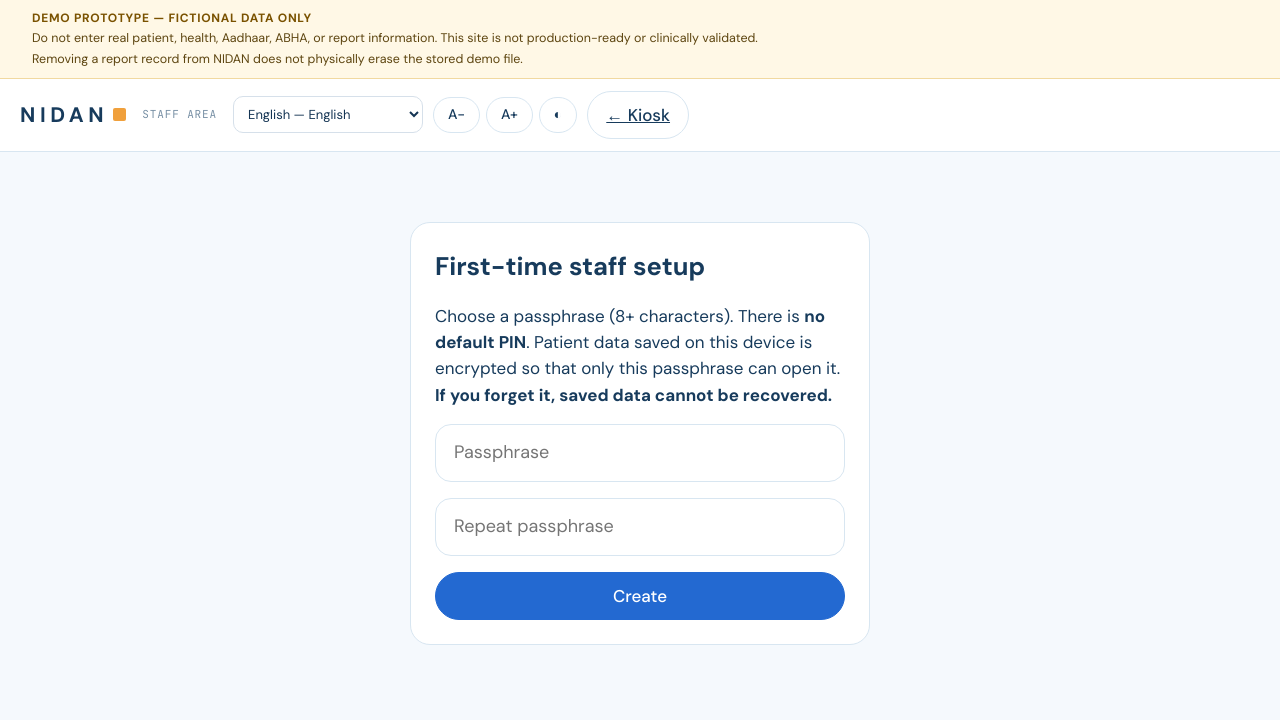
it: staff area: no default PIN, encrypted hand-over, audit › forces setup, then shows alerts after sign-in; kiosk data is saved sealed
Expected: the text "no default PIN" is shown, [435,304,825,353]
Type "correct horse battery" into the password field with placeholder "Passphrase" at (640, 453), box [435,424,845,482]
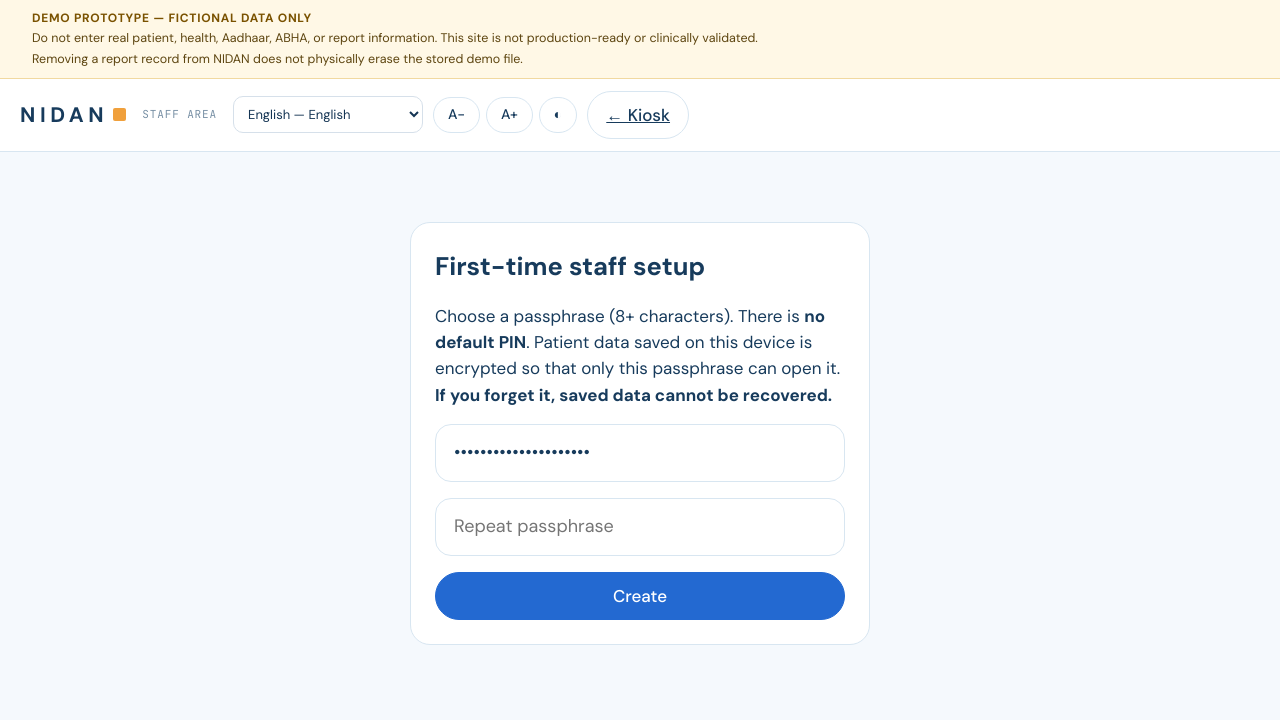
Type "correct horse battery" into the password field with placeholder "Repeat passphrase" at (640, 527), box [435,498,845,556]
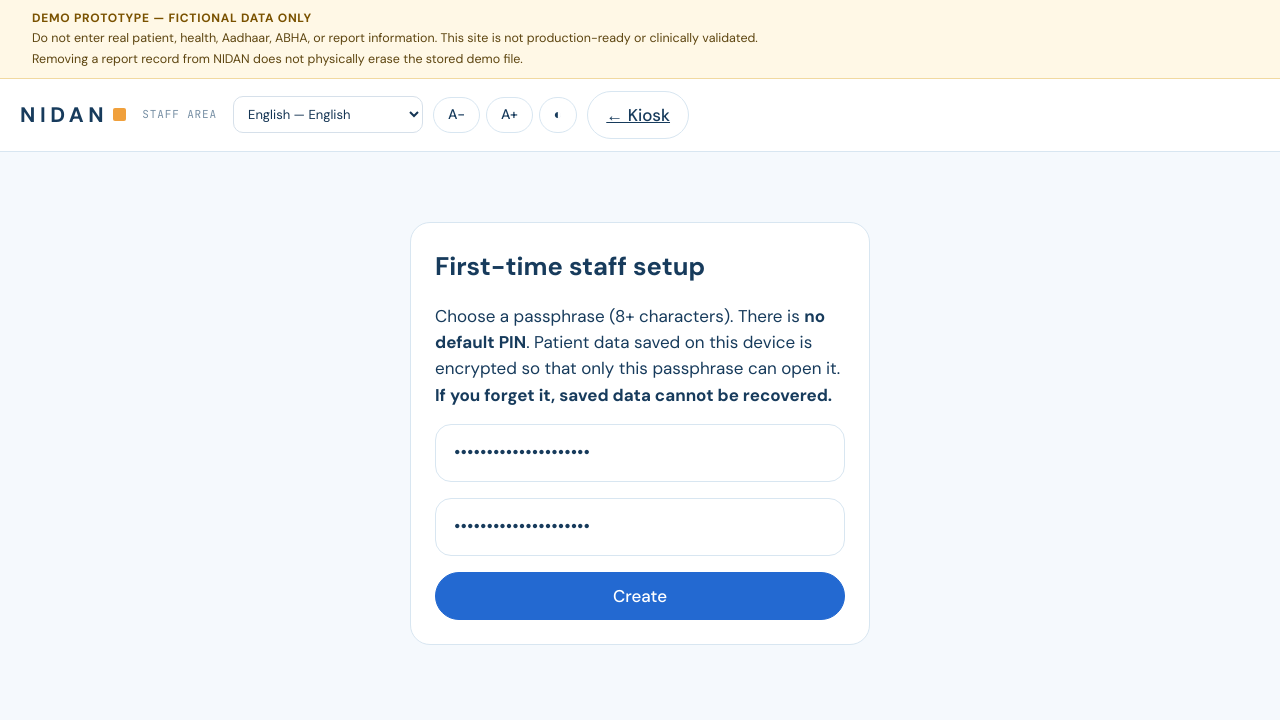
Click the button "Create" at (640, 596), box [435,572,845,620]
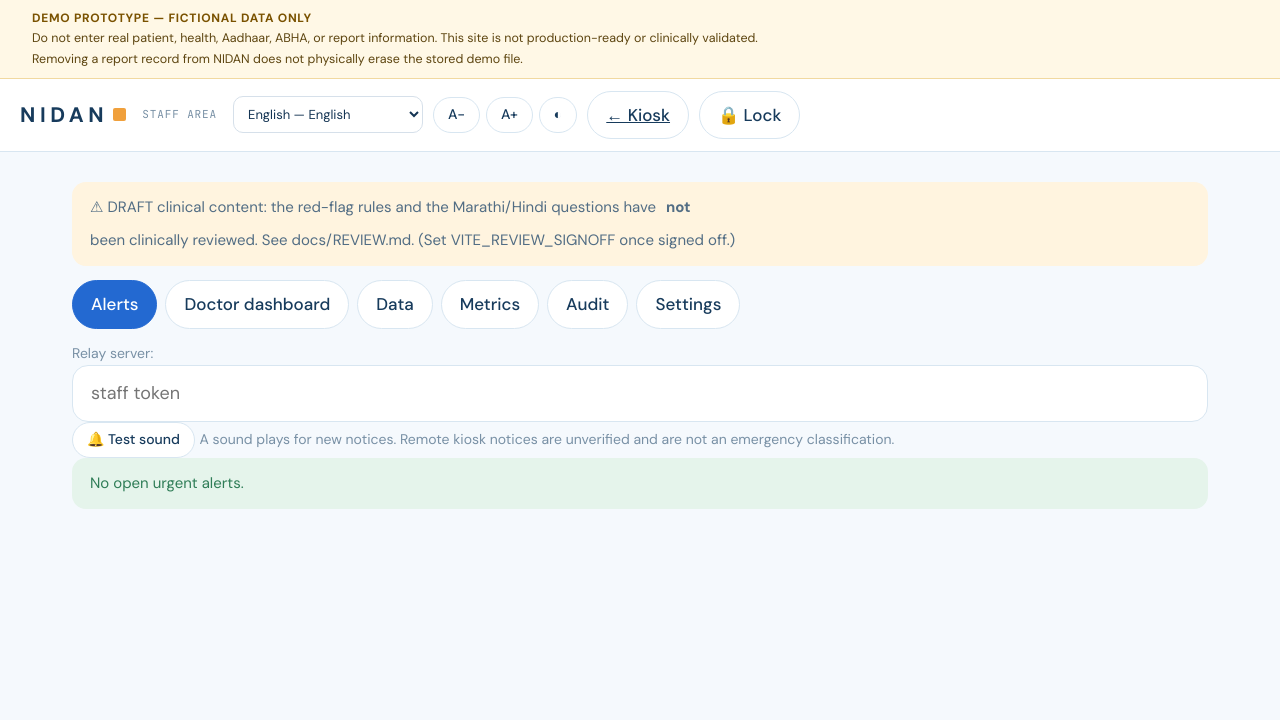
Now the text "DRAFT clinical content" is shown, box [90,197,656,217]
Now the text "No open urgent alerts." is shown, box [72,458,1208,509]
